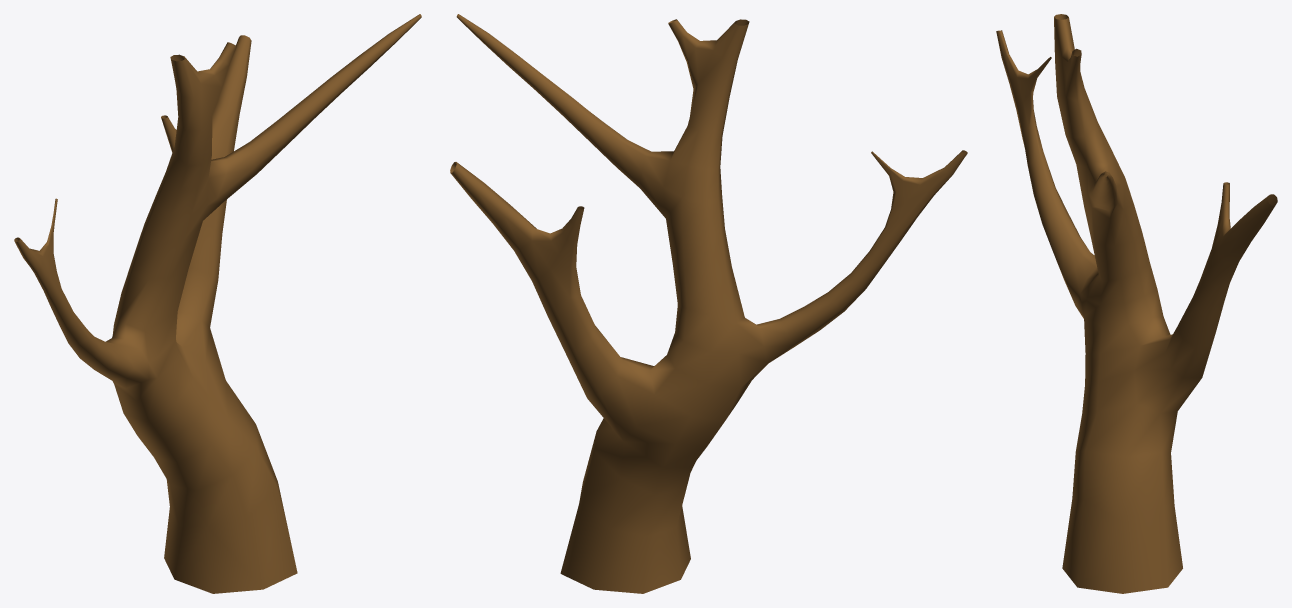
Rendered from tree.fbx.
3 views of the same model, side by side, from view 1: azimuth 30°, elevation 25°; view 2: azimuth 150°, elevation 25°; view 3: azimuth 270°, elevation 25° (orthographic). The views are drawn at different scales.
Visible parts, largest first — view 1: WG_Tree04; view 2: WG_Tree04; view 3: WG_Tree04.
Part boxes in pixels (x1,y1,x2,y2): WG_Tree04: [14, 14, 421, 593]; WG_Tree04: [450, 14, 967, 593]; WG_Tree04: [996, 14, 1277, 593].
Bounding box in the file's own units: 10.53 × 11.98 × 5.97.
